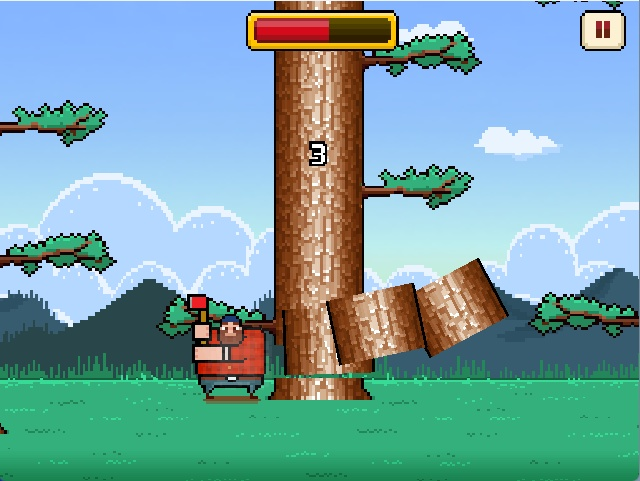right_obs: (362, 162, 475, 211)
timberman: (179, 290, 278, 409)
